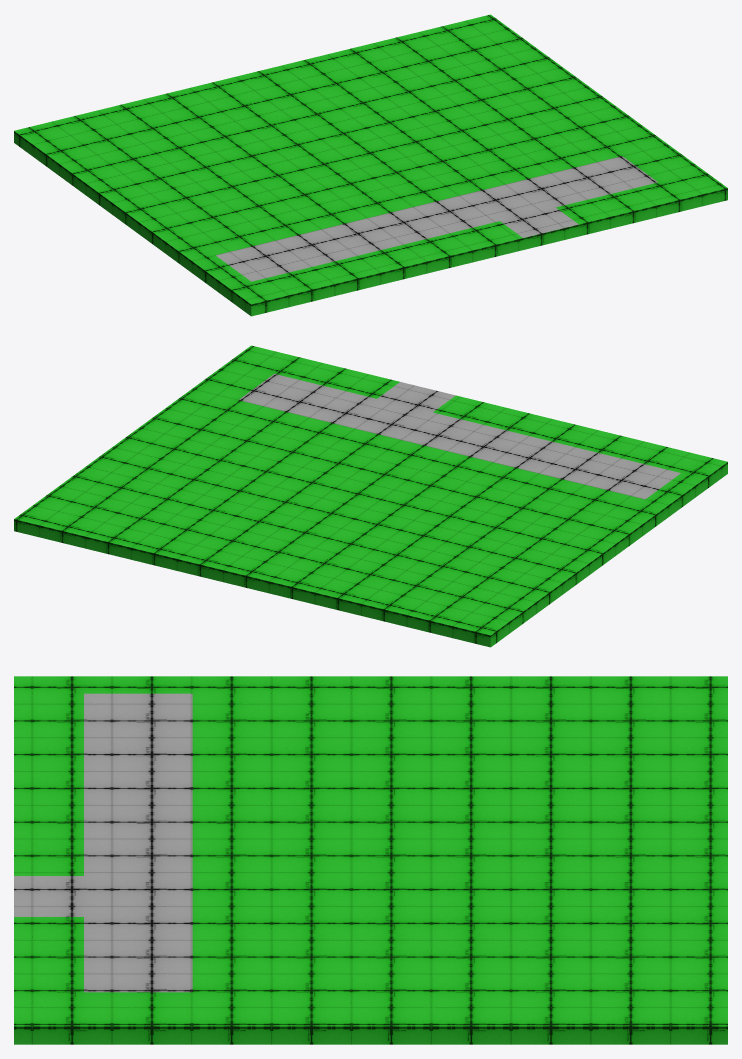
The model's file is Casa_EXTERIOR_suelo_jardin_Posterior.fbx.
3 renders of one model, top to bottom at view 1: azimuth 30°, elevation 25°; view 2: azimuth 150°, elevation 25°; view 3: azimuth 270°, elevation 25°, orthographic. The views are drawn at different scales.
Parts seen in each view (by area): view 1: Casa_EXTERIOR_suelo_jardin_Posterior; view 2: Casa_EXTERIOR_suelo_jardin_Posterior; view 3: Casa_EXTERIOR_suelo_jardin_Posterior.
Boxes of the visible parts, x1=… form: Casa_EXTERIOR_suelo_jardin_Posterior: x1=14, y1=14, x2=727, y2=316; Casa_EXTERIOR_suelo_jardin_Posterior: x1=14, y1=345, x2=727, y2=647; Casa_EXTERIOR_suelo_jardin_Posterior: x1=14, y1=676, x2=727, y2=1044.
Size of the model in its own units: 10.38 by 0.2503 by 8.95.
